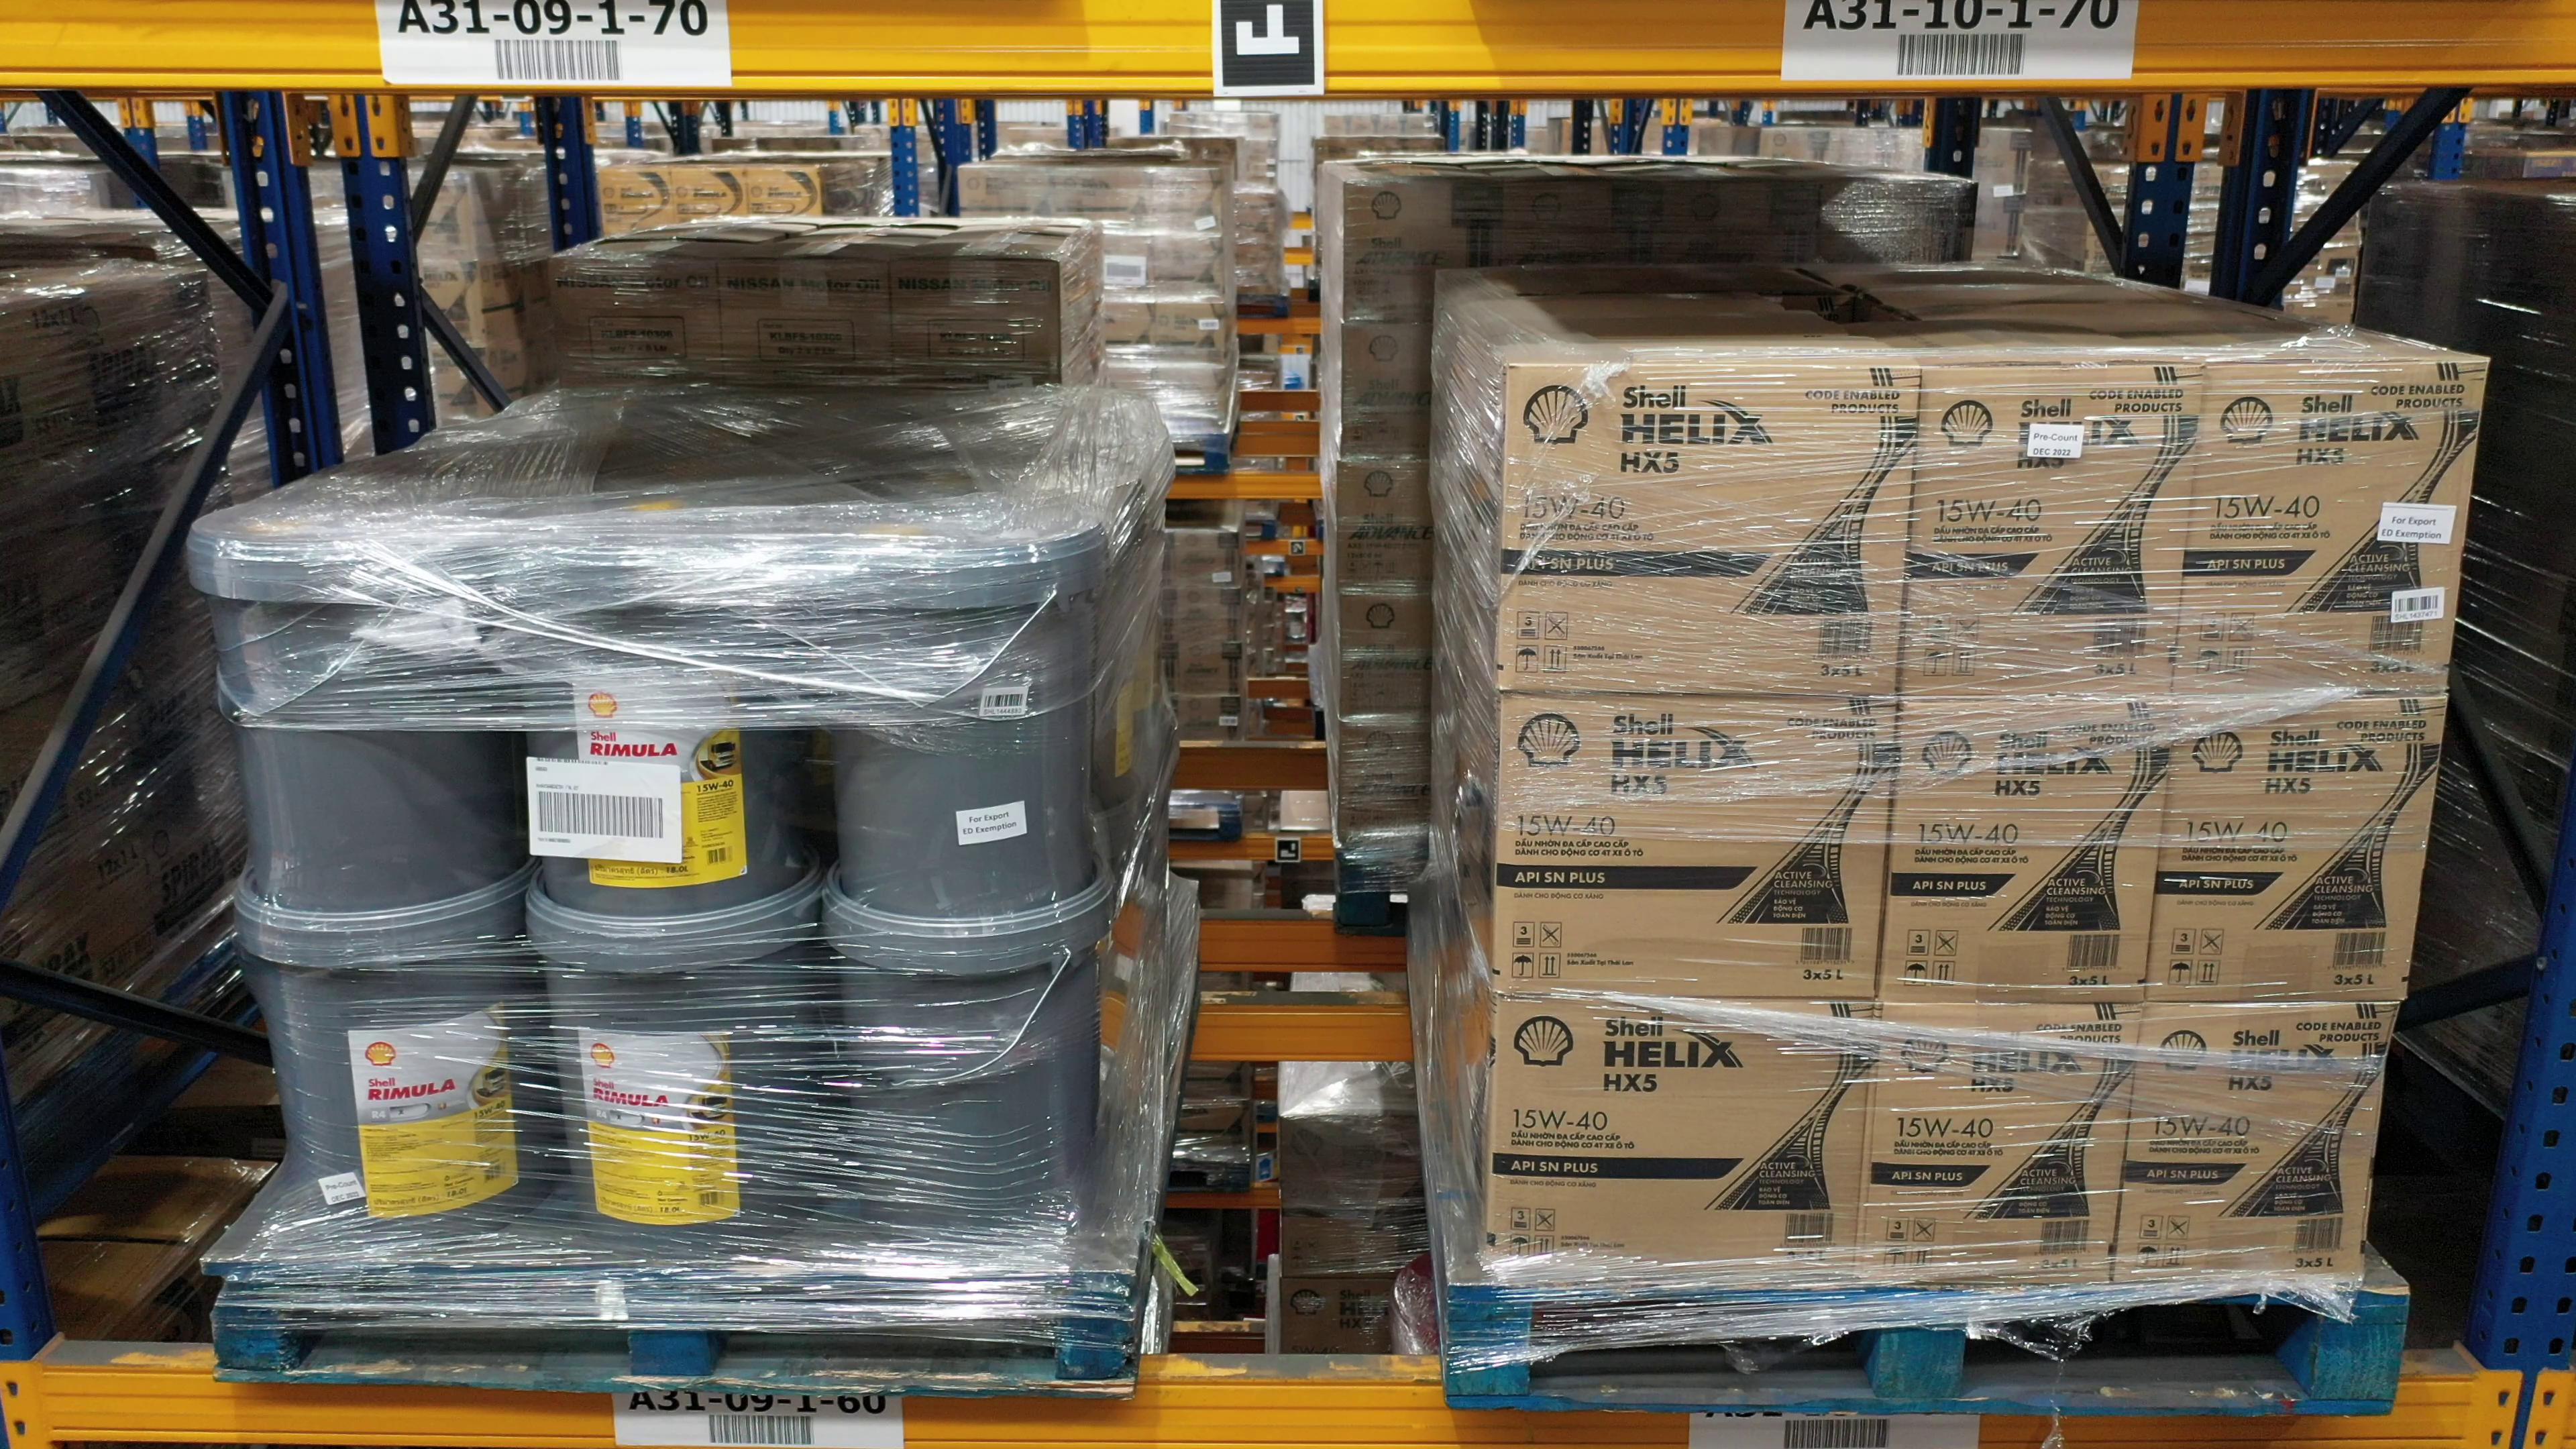-: (1497, 364, 1923, 697), (179, 524, 517, 913), (1493, 692, 1904, 1003), (1483, 993, 1879, 1288), (524, 886, 832, 1261), (525, 536, 814, 924), (824, 525, 1104, 918), (2174, 359, 2493, 697), (241, 886, 536, 1240), (823, 881, 1108, 1247), (1904, 364, 2204, 697), (2144, 694, 2450, 1003), (1875, 697, 2176, 1008), (1854, 1003, 2146, 1286), (2112, 998, 2399, 1283)
box: (718, 253, 892, 380), (550, 253, 720, 380), (892, 255, 1060, 382)
